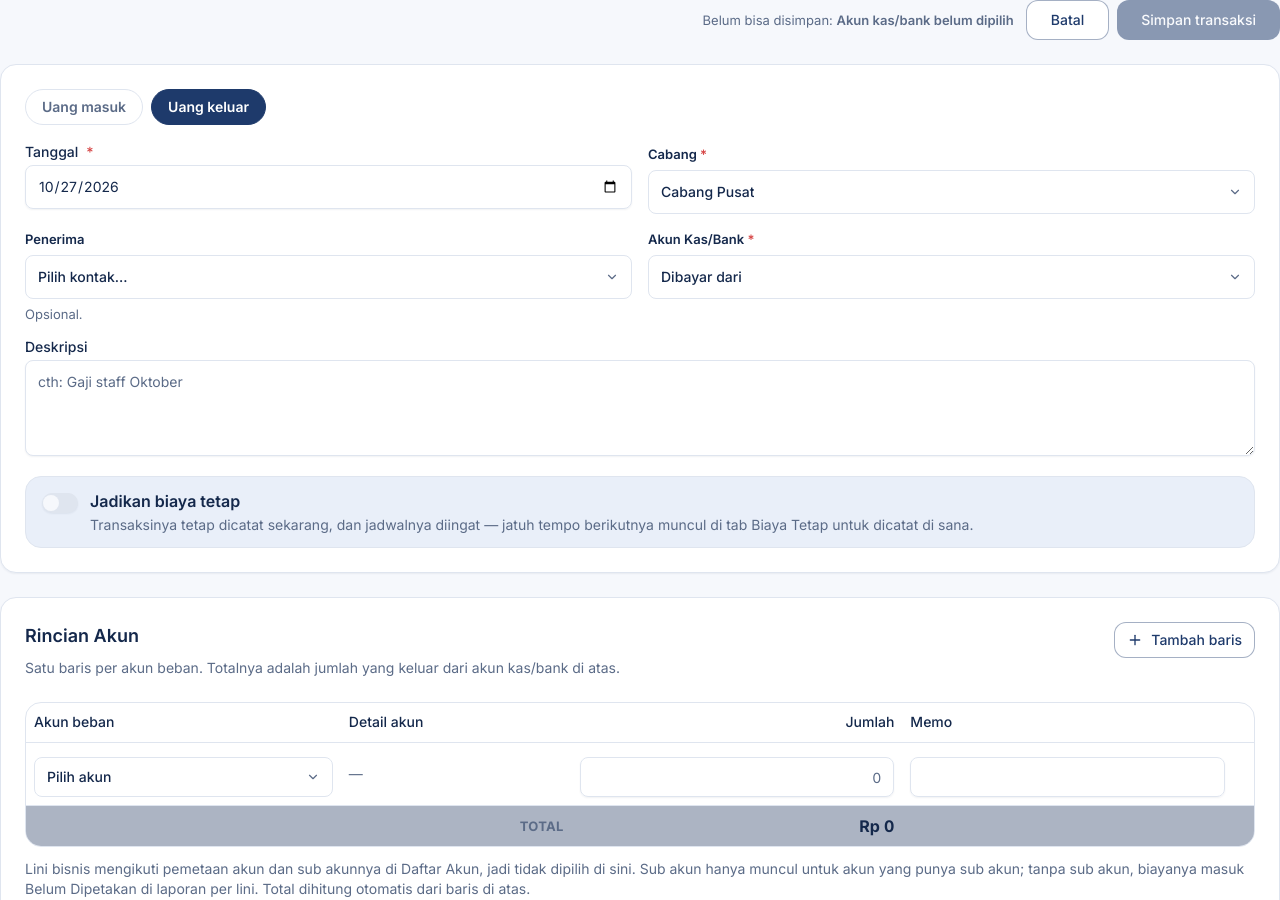
Test: CashTransactionCreateForm › lists every active Kas & Bank account and no channels at all
Click the button with aria-label "Akun Kas/Bank": (701, 276) top-left (648, 255), bottom-right (1255, 299)
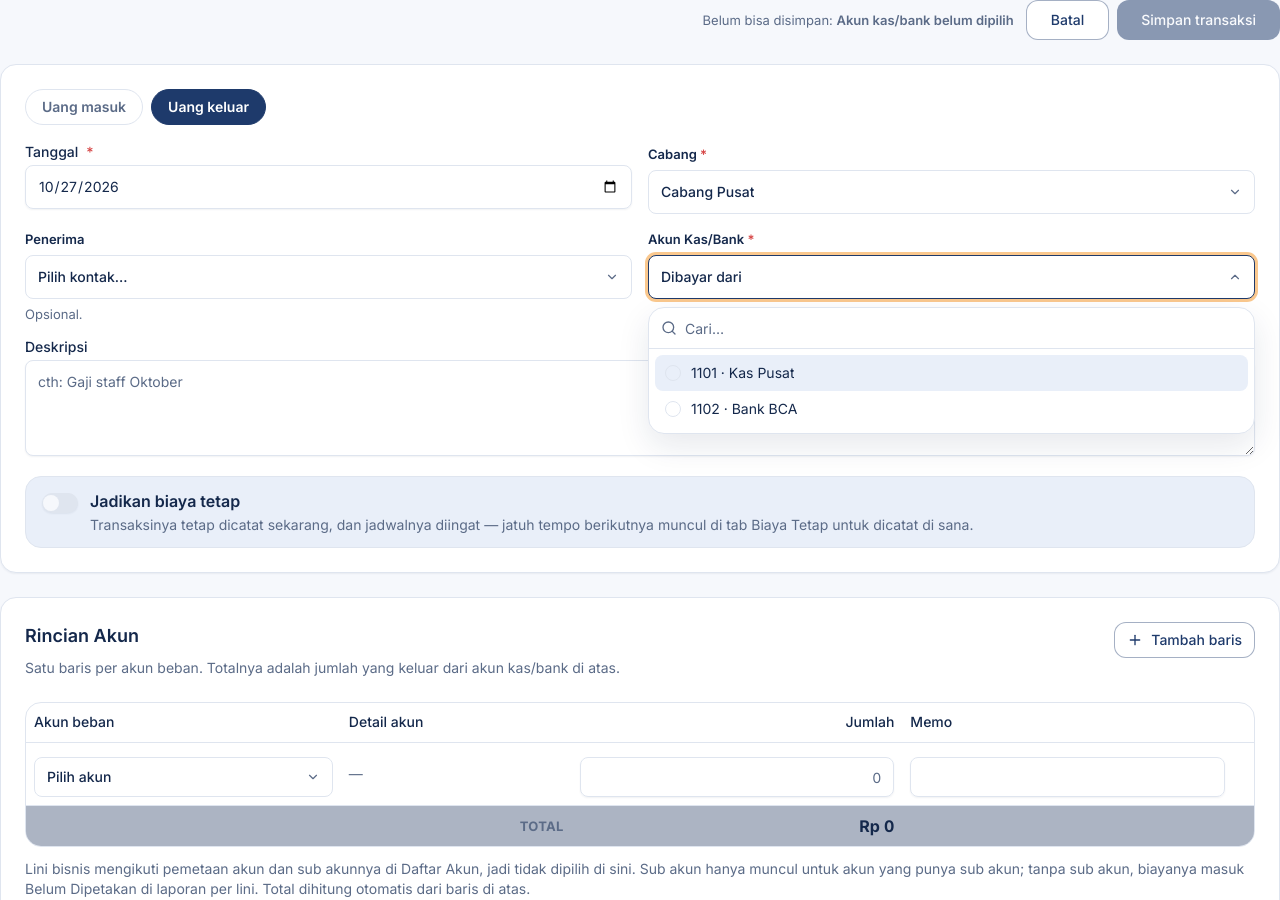
Check: the options read "1101 · Kas Pusat", "1102 · Bank BCA", in this order, box top-left (655, 355), bottom-right (1248, 391); top-left (665, 400), bottom-right (797, 417)
